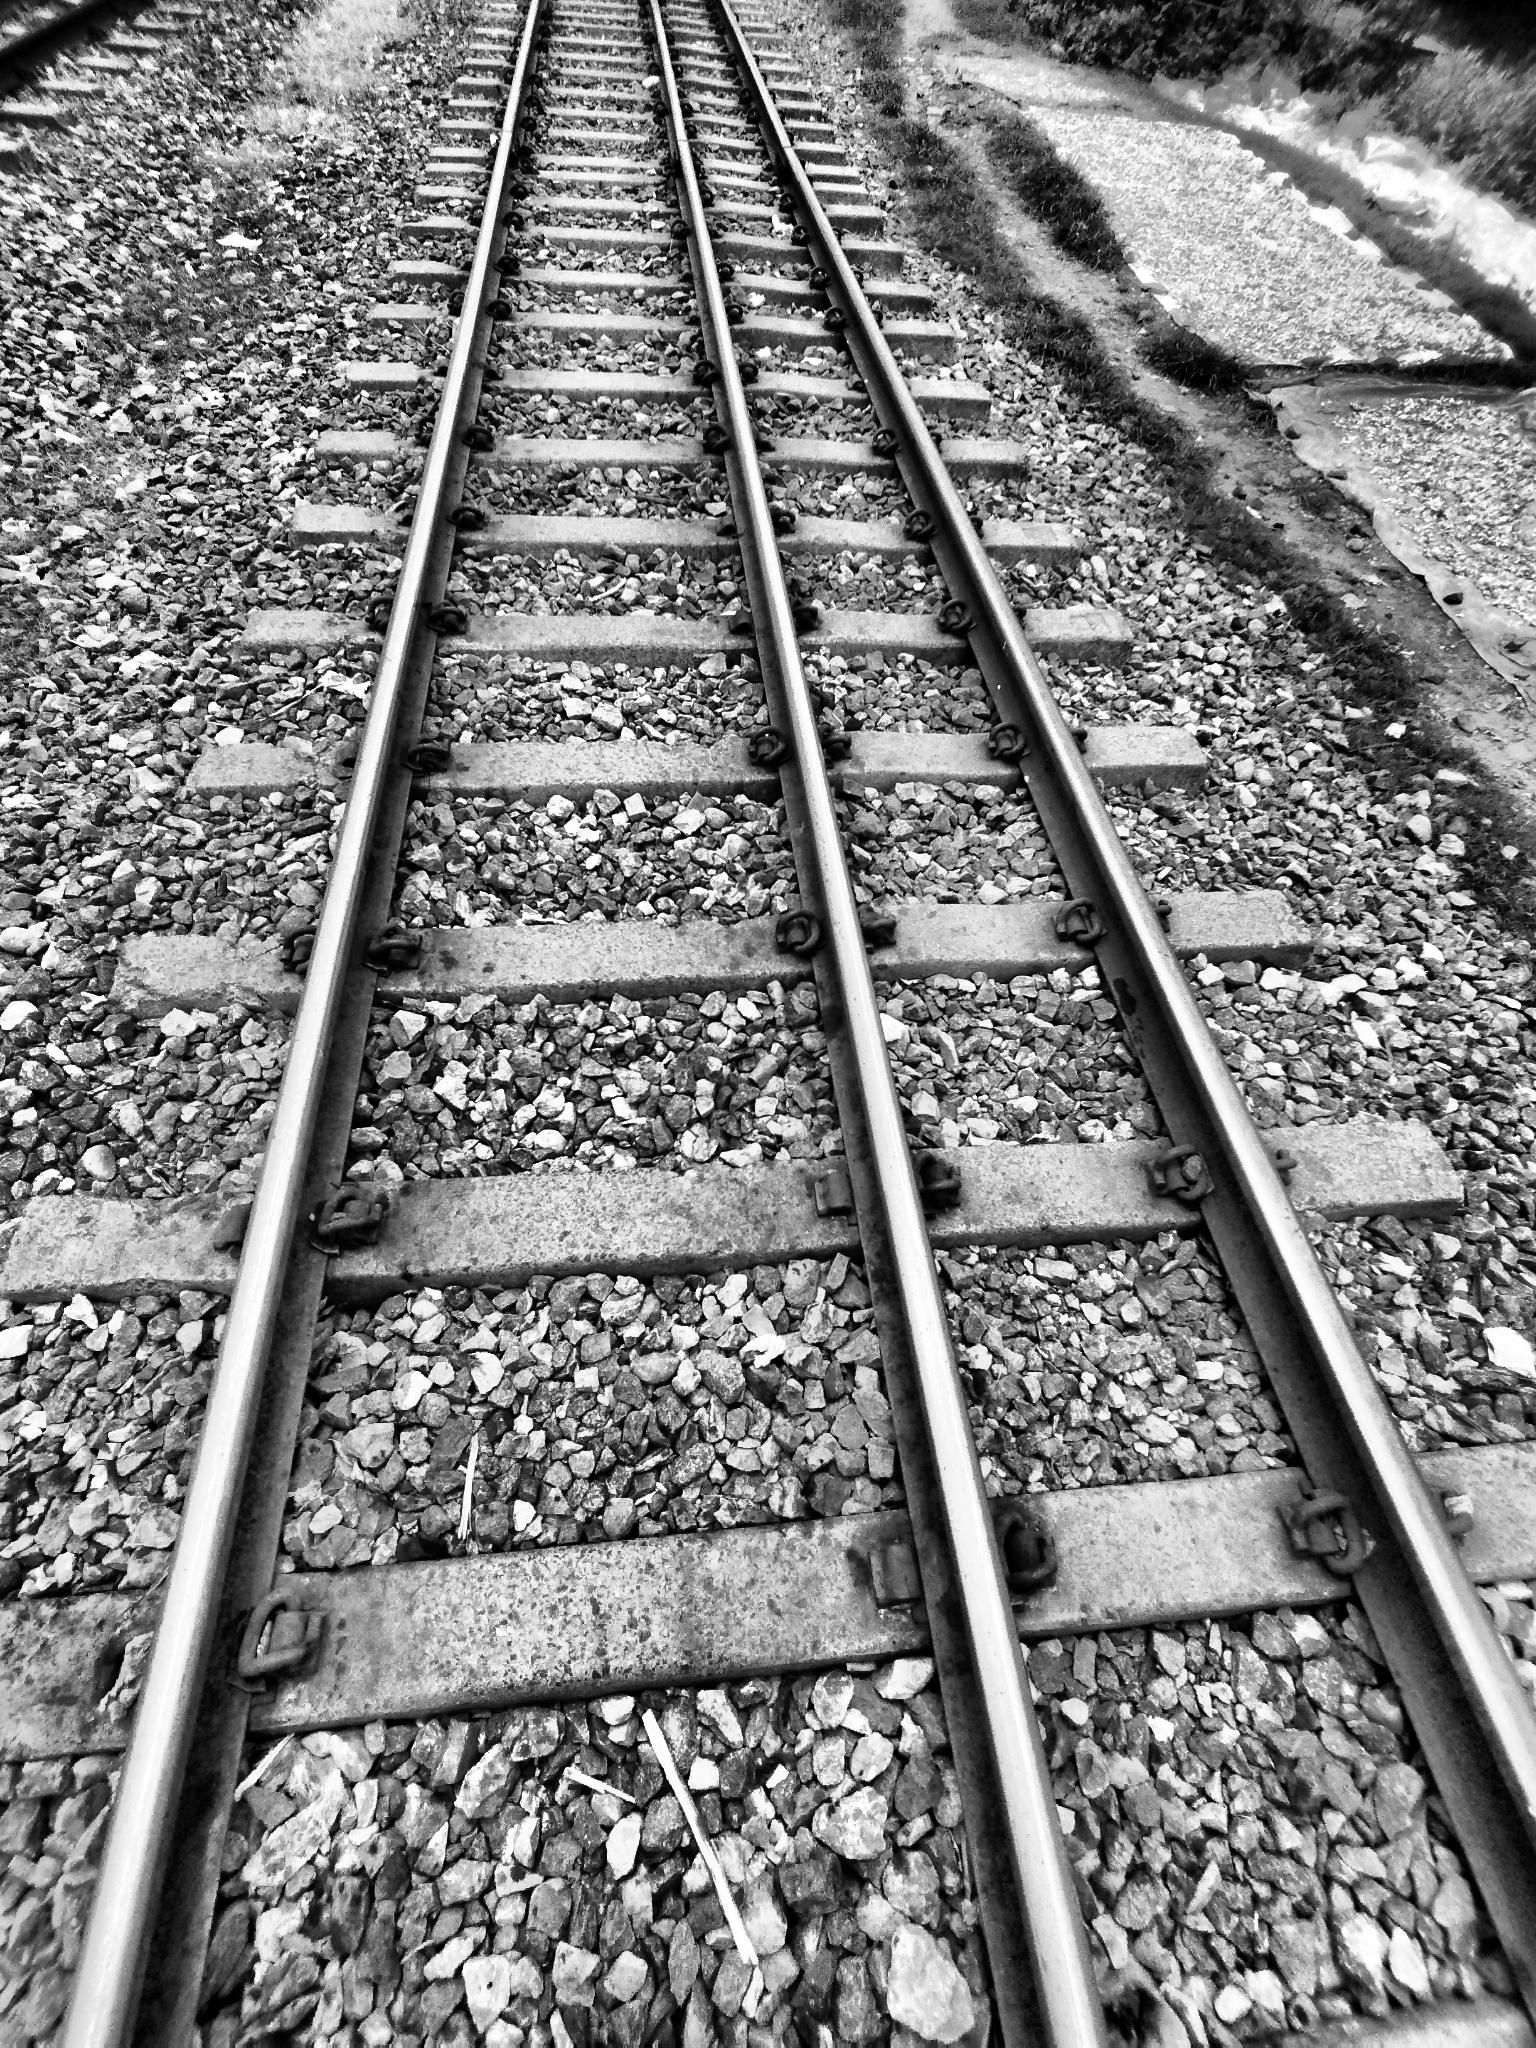Trash: (623, 1698, 778, 1998)
